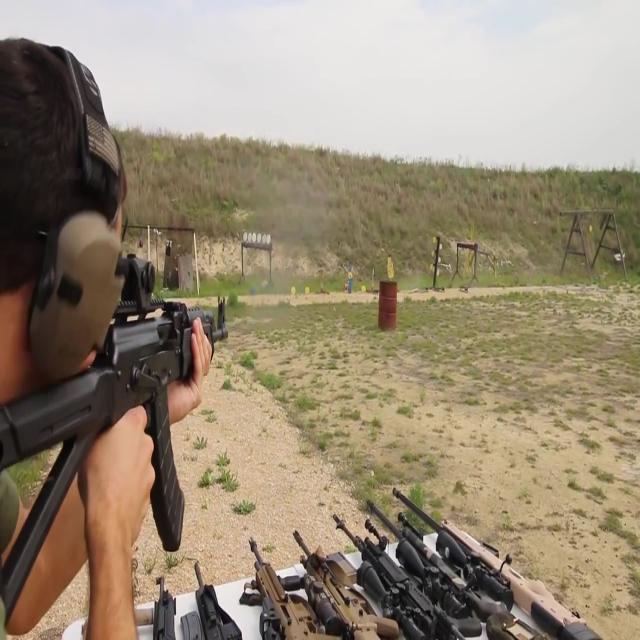Weapon: (96, 443, 640, 639), (0, 240, 236, 555)
